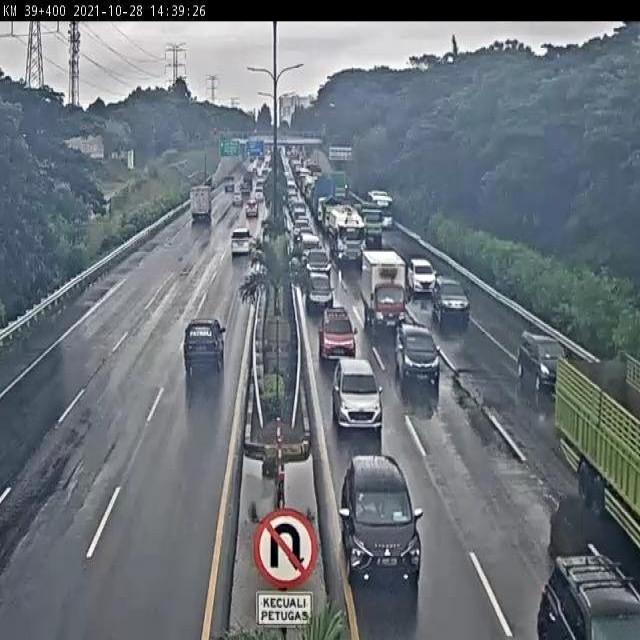big truck: (544, 348, 640, 543), (326, 202, 372, 270)
car: (339, 439, 424, 584), (512, 544, 640, 640), (326, 345, 395, 444), (172, 309, 234, 400), (386, 315, 451, 400), (510, 320, 568, 401), (424, 265, 472, 331), (316, 302, 362, 369), (302, 266, 337, 314), (403, 252, 436, 300), (226, 221, 259, 264), (236, 198, 262, 230), (251, 184, 269, 208), (227, 191, 247, 209), (232, 562, 233, 570)
small truck: (354, 245, 412, 338), (181, 180, 217, 236)
